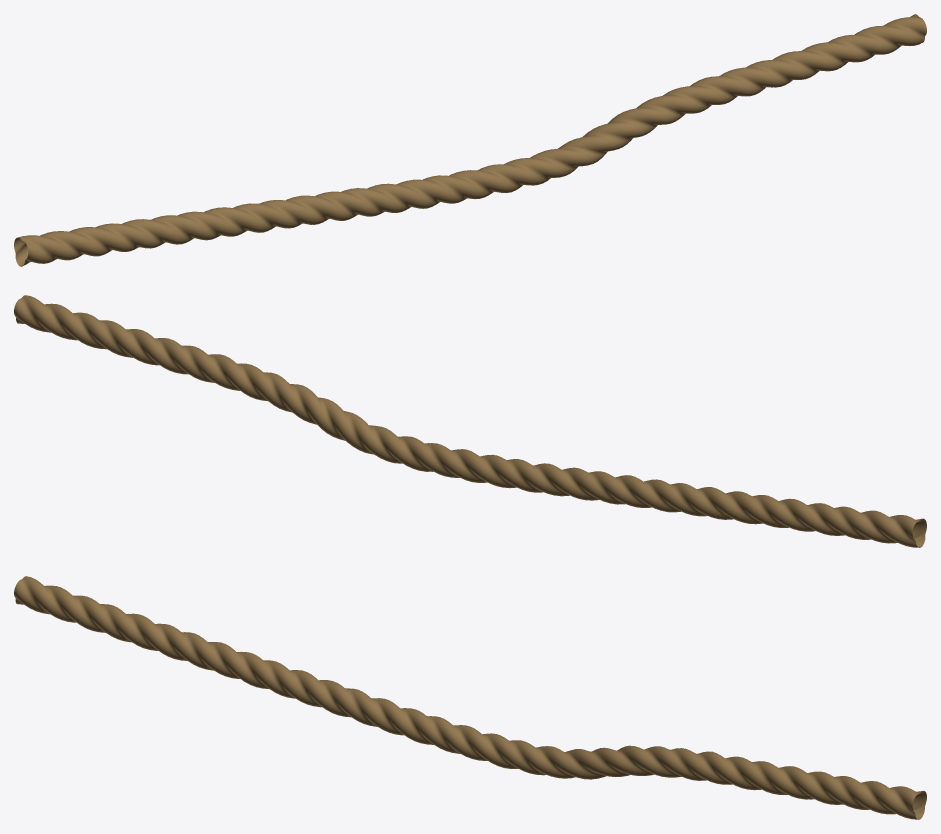
The model's file is rope color.fbx.
The picture shows the model from 3 angles, top to bottom: view 1: azimuth 30°, elevation 25°; view 2: azimuth 150°, elevation 25°; view 3: azimuth 330°, elevation 25°; orthographic projection.
Parts seen in each view (by area): view 1: Circle.002; view 2: Circle.002; view 3: Circle.002.
Part boxes in pixels (<box>): Circle.002: <box>14,14,926,266</box>; Circle.002: <box>14,295,926,547</box>; Circle.002: <box>14,576,926,819</box>.
Size of the model in its own units: 6148 by 495 by 184.
